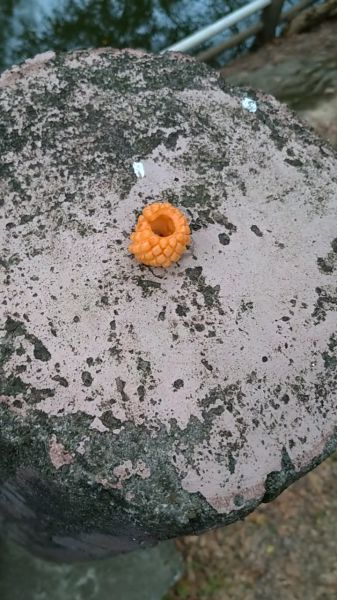eggs: (123, 197, 202, 272)
